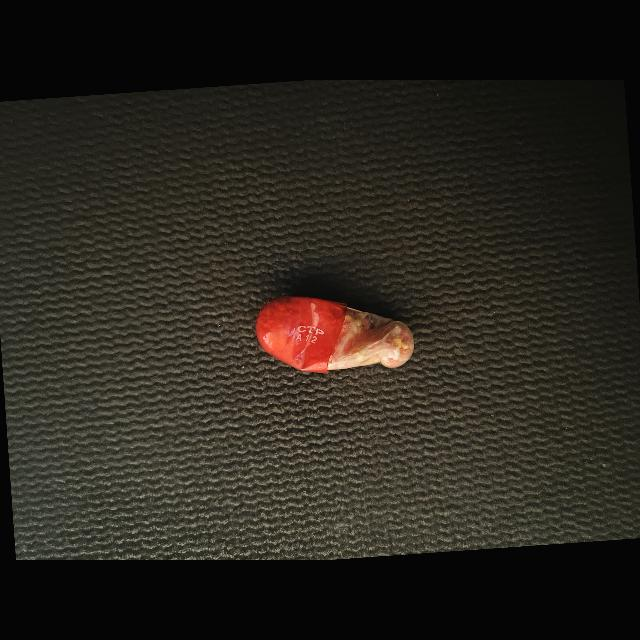Defective Capsule: (256, 296, 414, 373)
